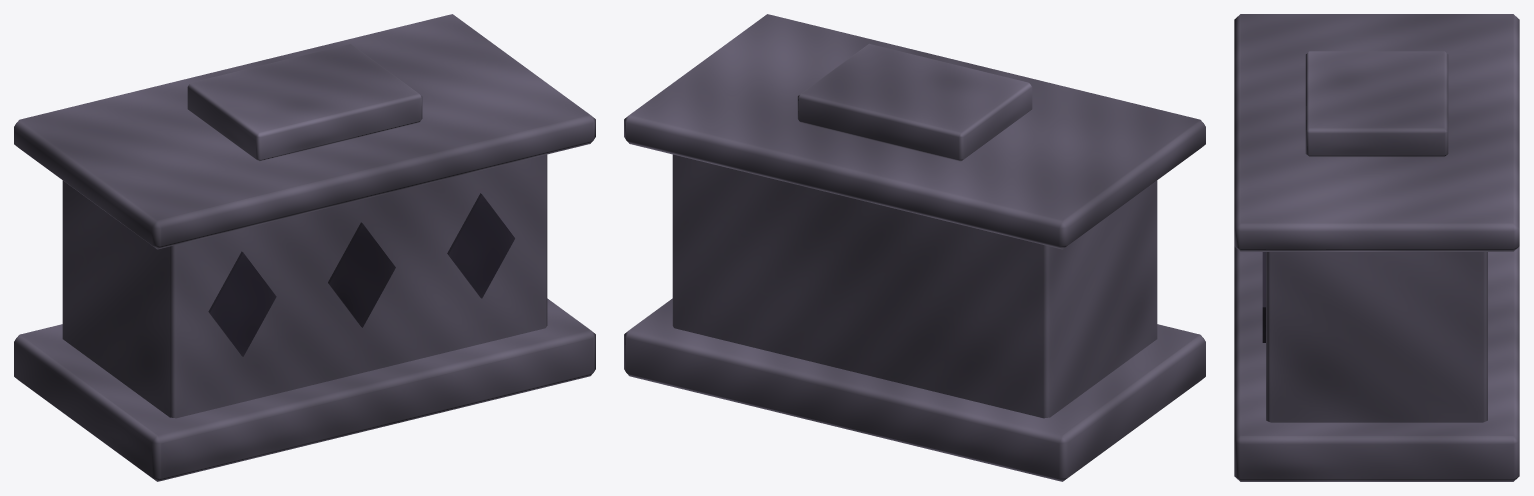
Rendered from Furn_Dun_Altar.fbx.
3 views of the same model, side by side, from view 1: azimuth 30°, elevation 25°; view 2: azimuth 150°, elevation 25°; view 3: azimuth 270°, elevation 25° (orthographic).
Visible parts, largest first — view 1: Furn_Dun_Altar; view 2: Furn_Dun_Altar; view 3: Furn_Dun_Altar.
Boxes of the visible parts, x1,y1,x2,y2 form: Furn_Dun_Altar: [14, 14, 595, 481]; Furn_Dun_Altar: [624, 14, 1205, 481]; Furn_Dun_Altar: [1234, 14, 1519, 481].
Size of the model in its own units: 1.6 by 1 by 0.9.
2 materials, 2 textured.
